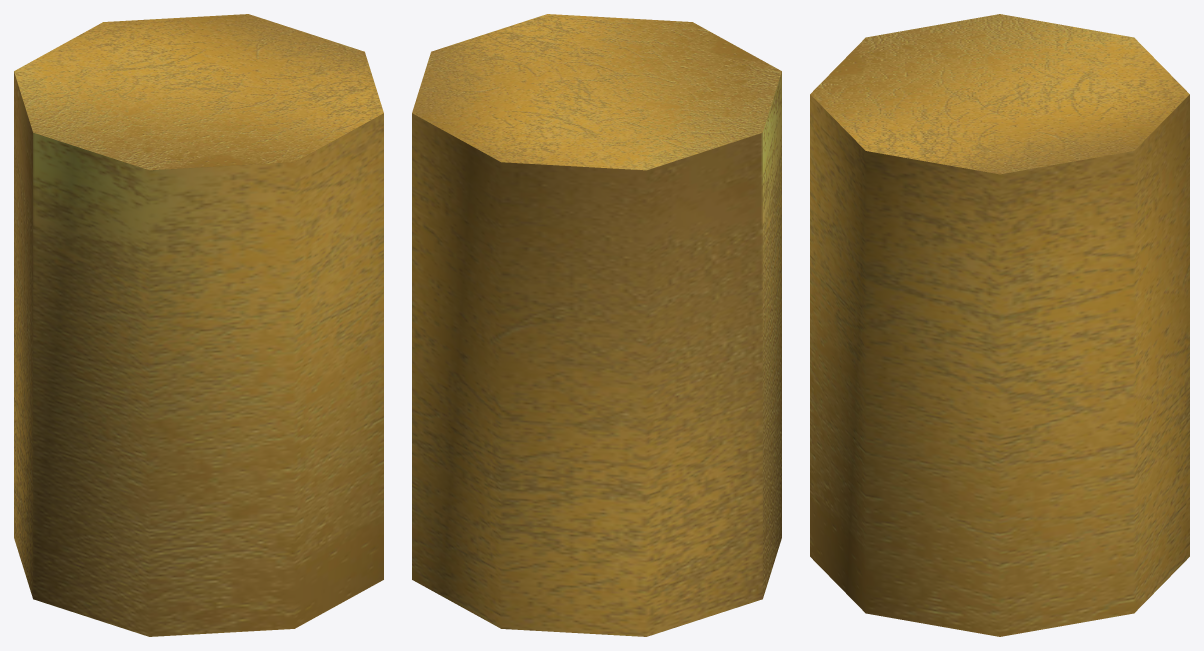
The model's file is goldb.gltf.
3 views of the same model, side by side, from view 1: azimuth 30°, elevation 25°; view 2: azimuth 150°, elevation 25°; view 3: azimuth 270°, elevation 25° (orthographic).
Visible parts, largest first — view 1: goldb; view 2: goldb; view 3: goldb.
Boxes of the visible parts, bbox=[...] form: goldb: bbox=[14, 14, 383, 636]; goldb: bbox=[412, 14, 781, 636]; goldb: bbox=[810, 14, 1189, 636].
Size of the model in its own units: 0.1137 by 0.1529 by 0.1137.
1 material, 1 textured.
